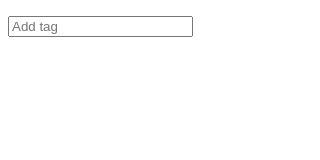
TagInput › shows a message from the server
The width and height of the screenshot is (320, 160).
Type "fine" into the field labelled "Add tag" at point(100, 26), box x1=8 y1=16 x2=193 y2=37
Then press Enter
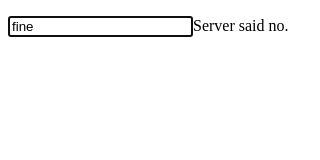
Check: the message reads "Server said no.", box x1=193 y1=17 x2=288 y2=34
